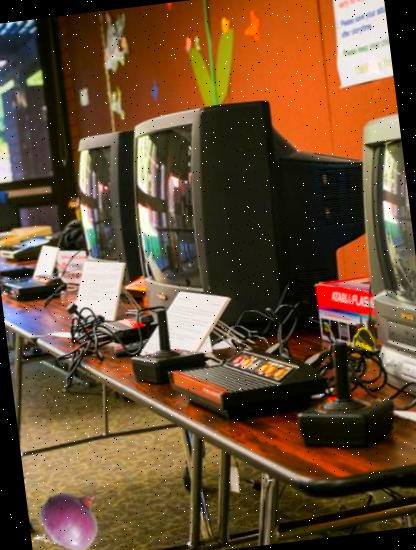Onion: (25, 480, 111, 550)
